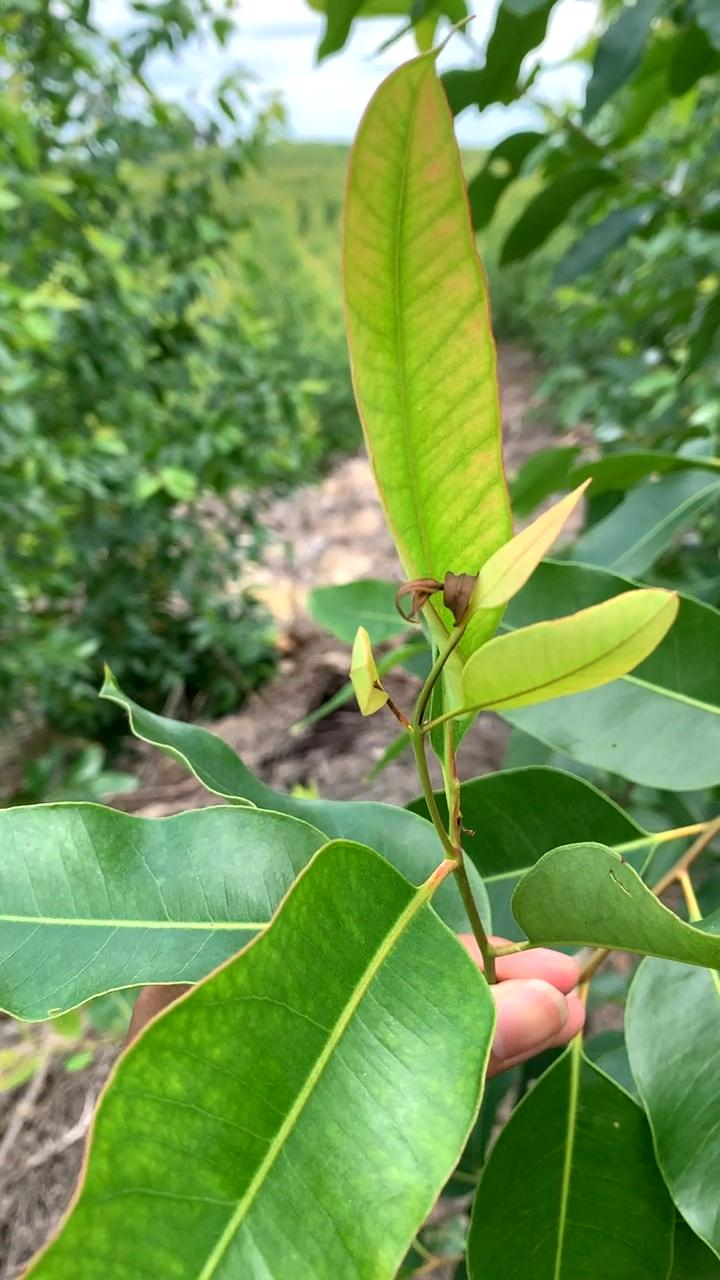Helopeltis-Withered Sprout: (390, 546, 481, 644)
